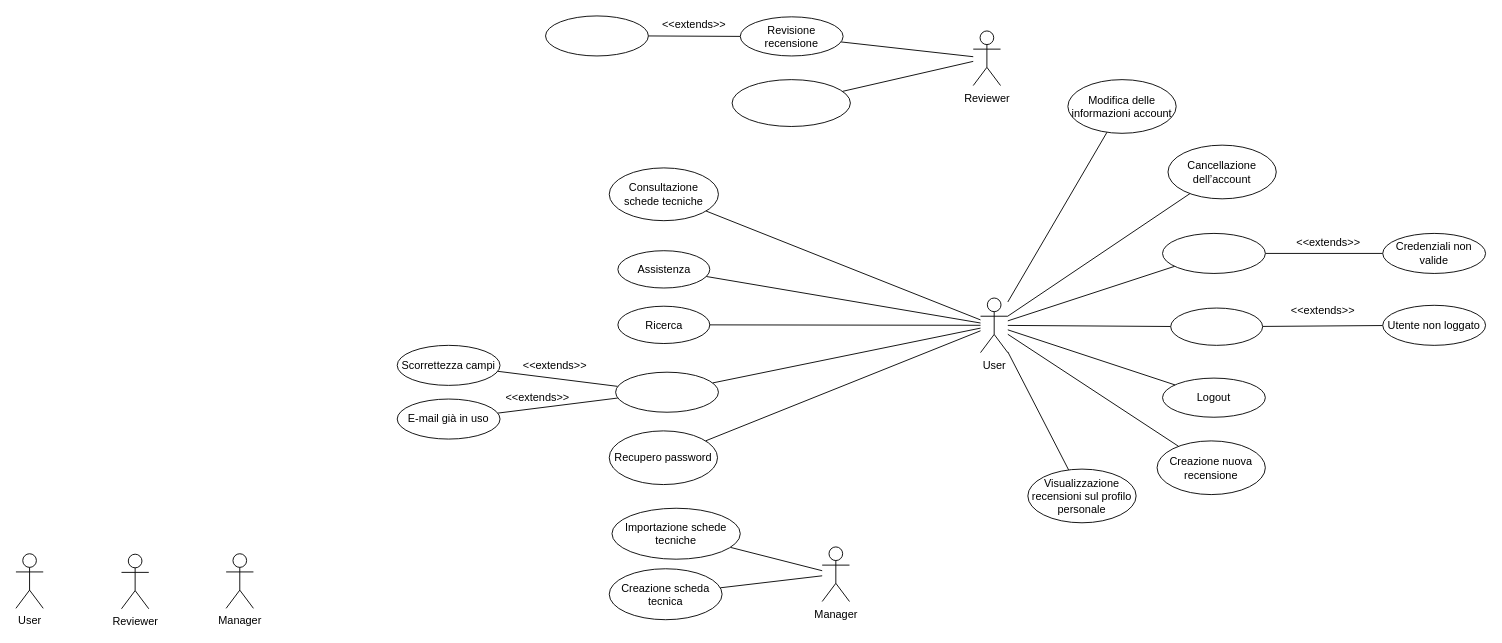
Some shapes in this 1502 by 643 pixel diagram are drawn without their labels. Each missing label, with the box of its shape:
Aggiunta recensione professionale: (731, 79, 850, 126)
DoraIA: (1170, 307, 1263, 345)
Login: (1162, 233, 1265, 273)
Recensione Respinta: (545, 15, 648, 56)
Registrazione: (615, 371, 718, 412)
